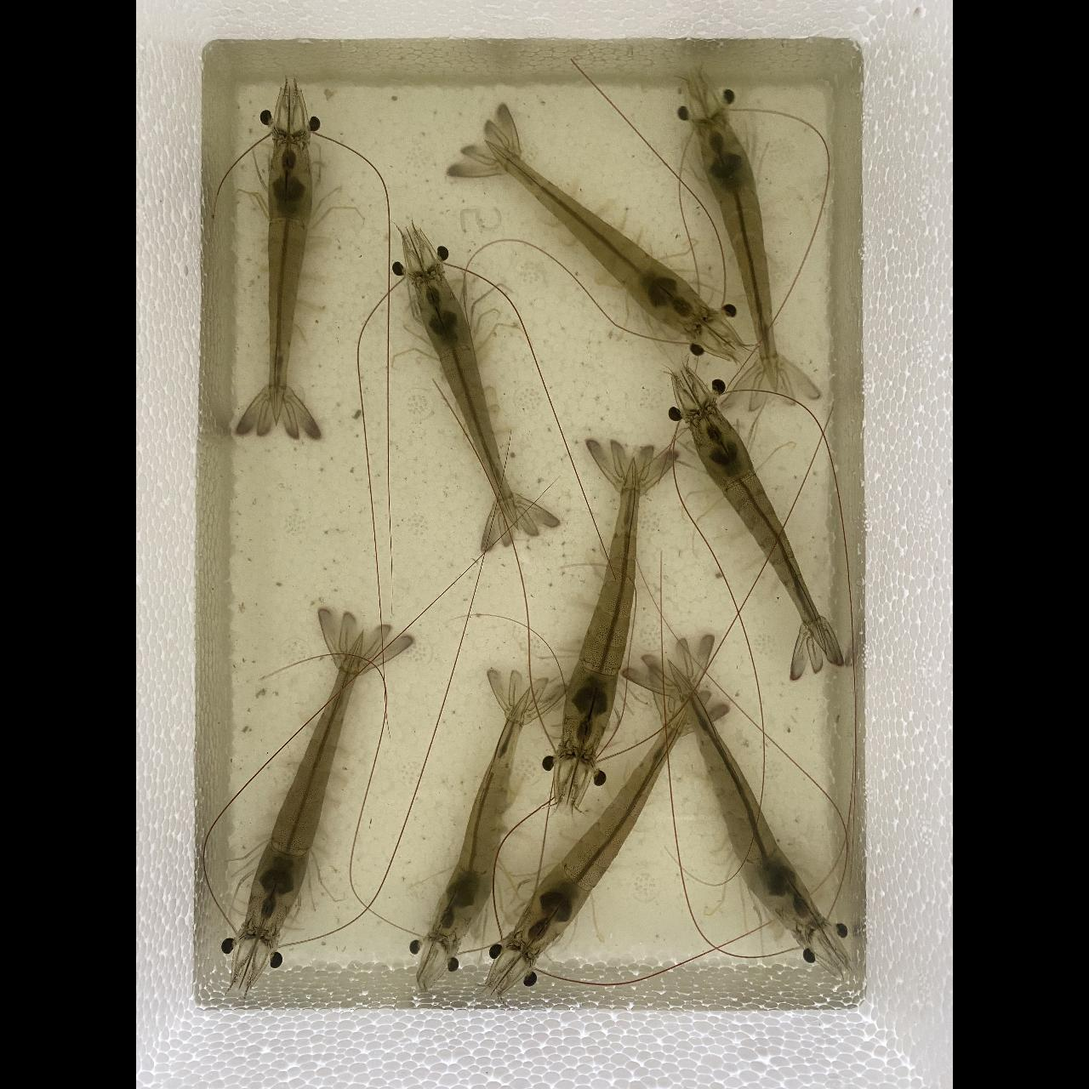top_shrimp: (490, 143, 706, 332), (669, 667, 818, 927), (516, 716, 679, 951), (245, 640, 359, 936), (689, 408, 827, 643), (415, 272, 516, 522), (562, 463, 638, 754), (434, 696, 522, 939), (699, 117, 774, 381), (267, 133, 310, 422)
